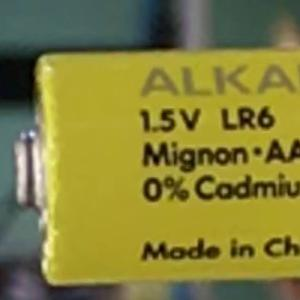keyword: (135, 59, 247, 101), (211, 96, 285, 140)
